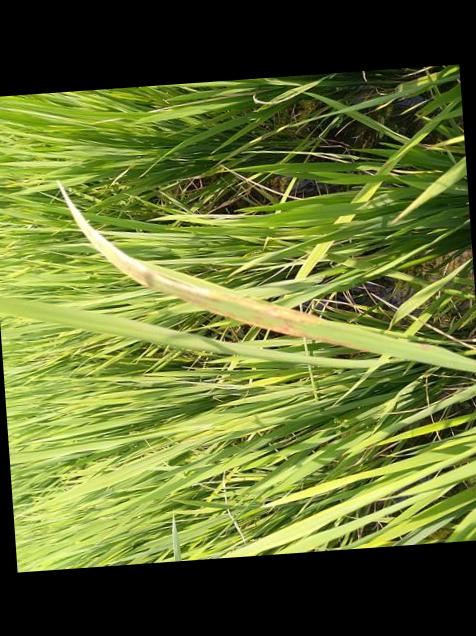Leaf Streak: (61, 188, 475, 369)
